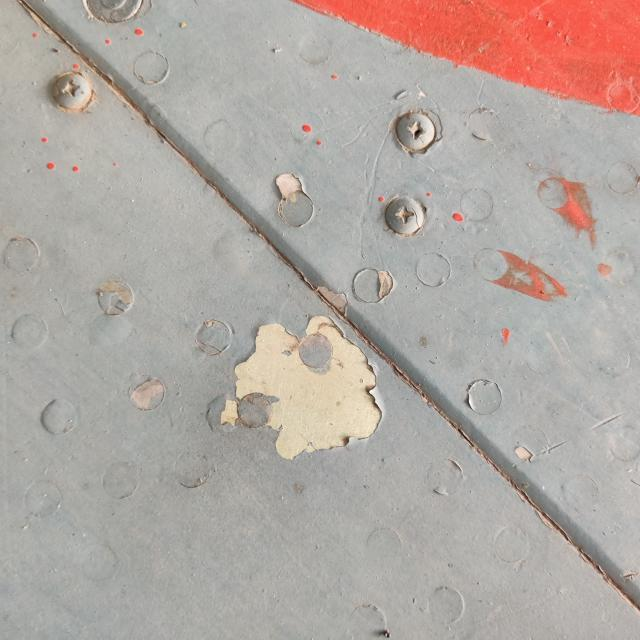Paint-off: (211, 317, 383, 461)
